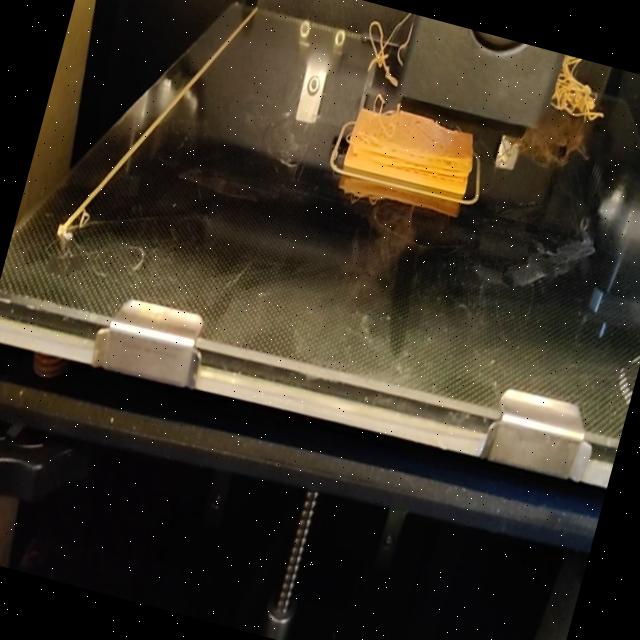spaghetti: (542, 52, 616, 128), (355, 3, 418, 84)
